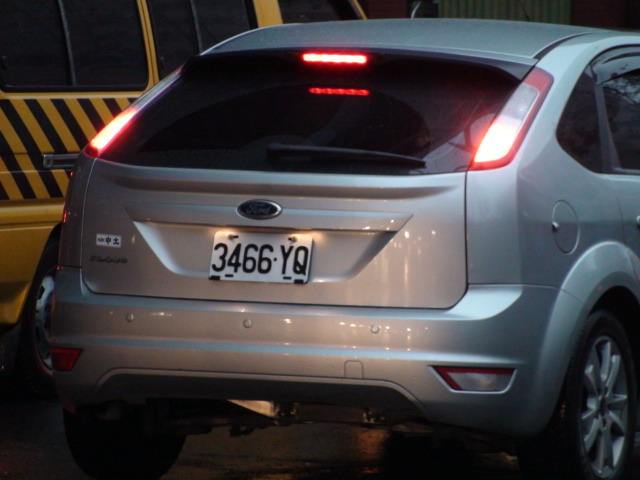plate: (209, 226, 314, 291)
